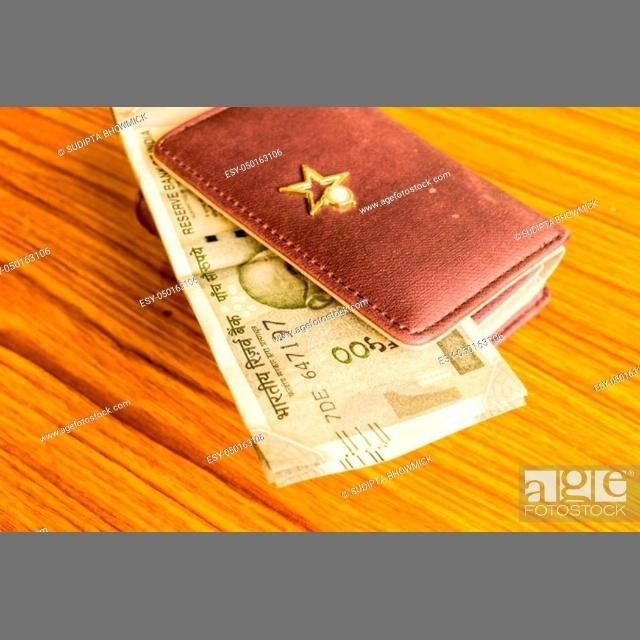Wallet: (136, 108, 604, 384)
